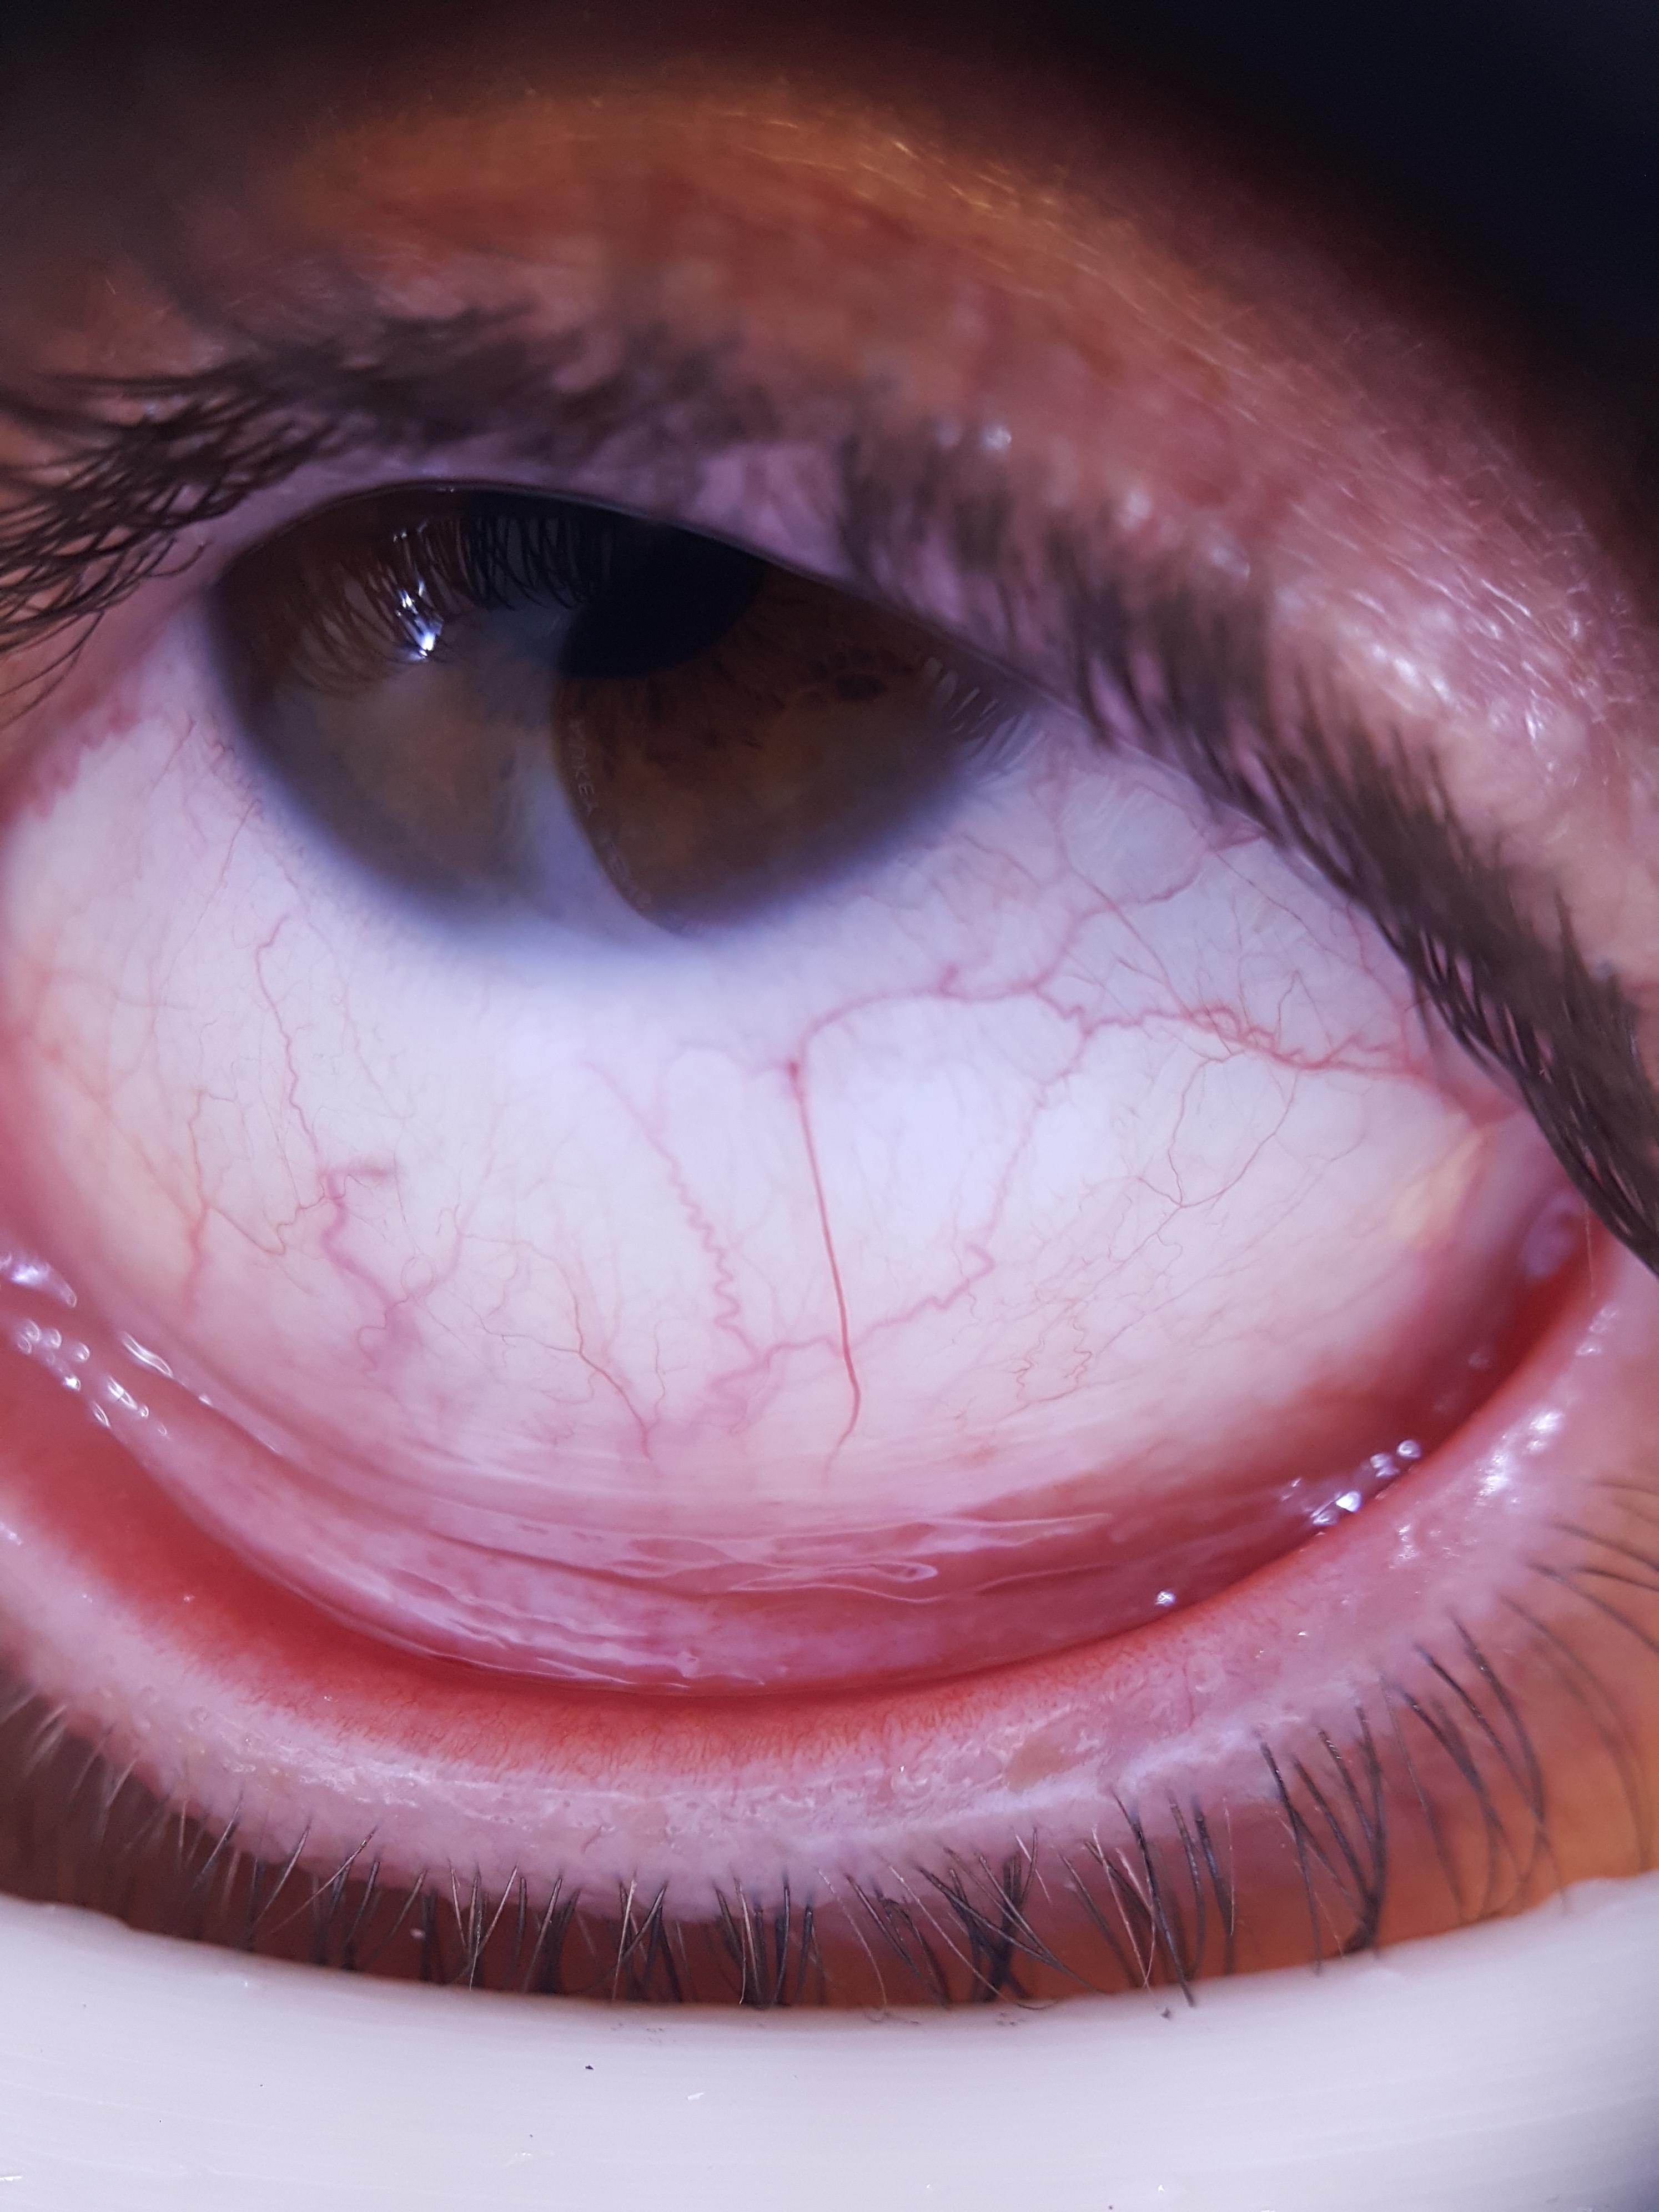forniceal: (0, 1136, 1579, 1691)
forniceal_palpebral: (0, 1130, 1595, 1778)
palpebral: (0, 1296, 1591, 1768)
